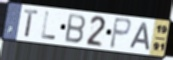2: (85, 15, 108, 49)
A: (128, 21, 151, 52)
B: (64, 12, 87, 44)
L: (40, 10, 57, 41)
P: (108, 17, 132, 50)
T: (23, 8, 40, 38)
